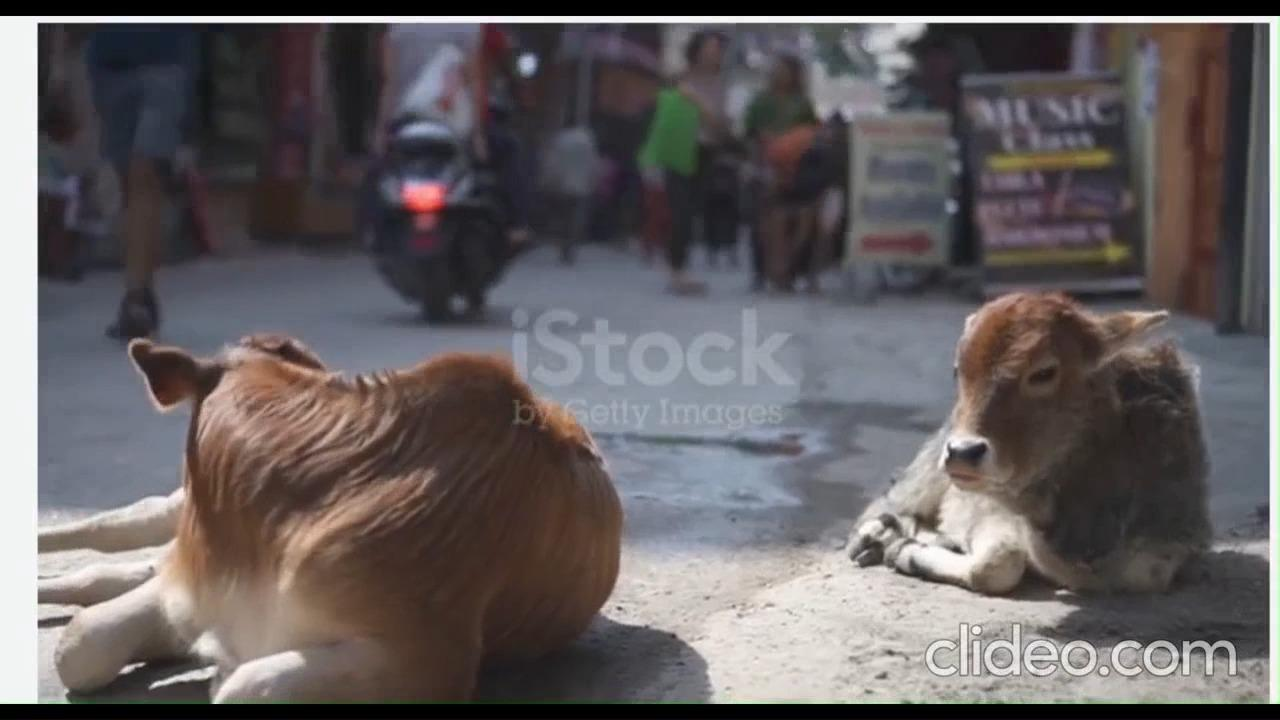Cow: (34, 328, 627, 696), (839, 284, 1210, 599)
